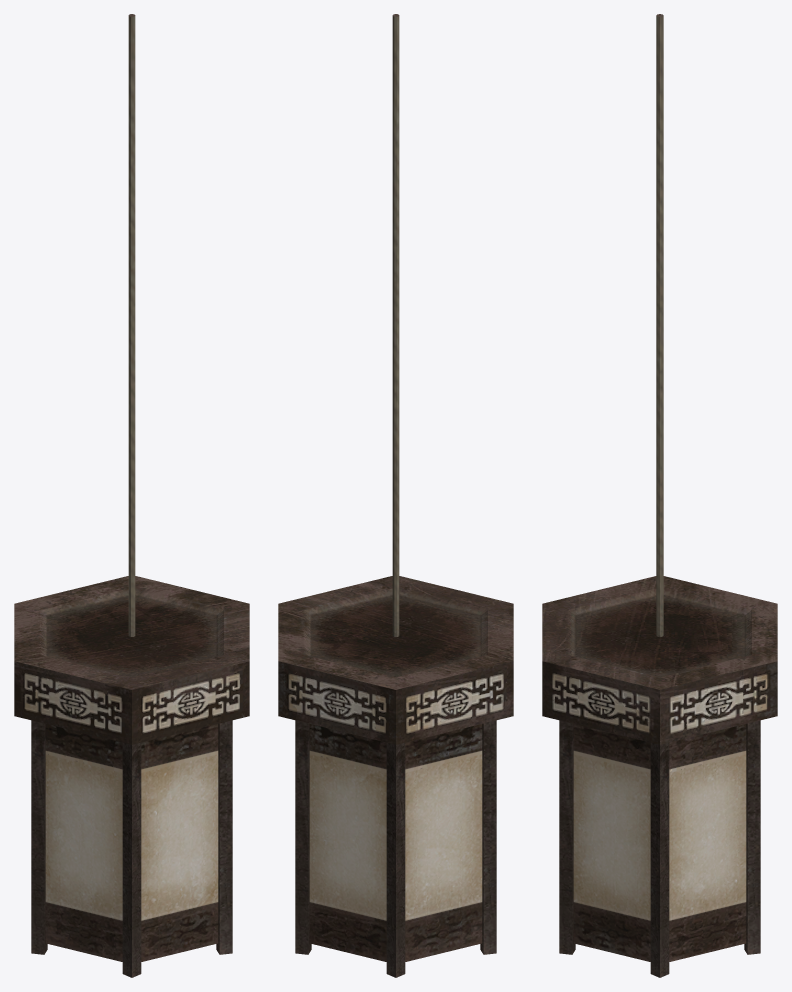
Rendered from ChineseLamp.fbx.
3 views of the same model, side by side, from view 1: azimuth 30°, elevation 25°; view 2: azimuth 150°, elevation 25°; view 3: azimuth 270°, elevation 25° (orthographic).
Parts seen in each view (by area): view 1: 3D_ChineseLamp.mo; view 2: 3D_ChineseLamp.mo; view 3: 3D_ChineseLamp.mo.
Part boxes in pixels (left/top/right/bottom): 3D_ChineseLamp.mo: left=14, top=14, right=249, bottom=977; 3D_ChineseLamp.mo: left=278, top=14, right=513, bottom=977; 3D_ChineseLamp.mo: left=542, top=14, right=777, bottom=977.
Size of the model in its own units: 40.82 by 151 by 35.35.
Materials: 1 (1 with a texture image).
